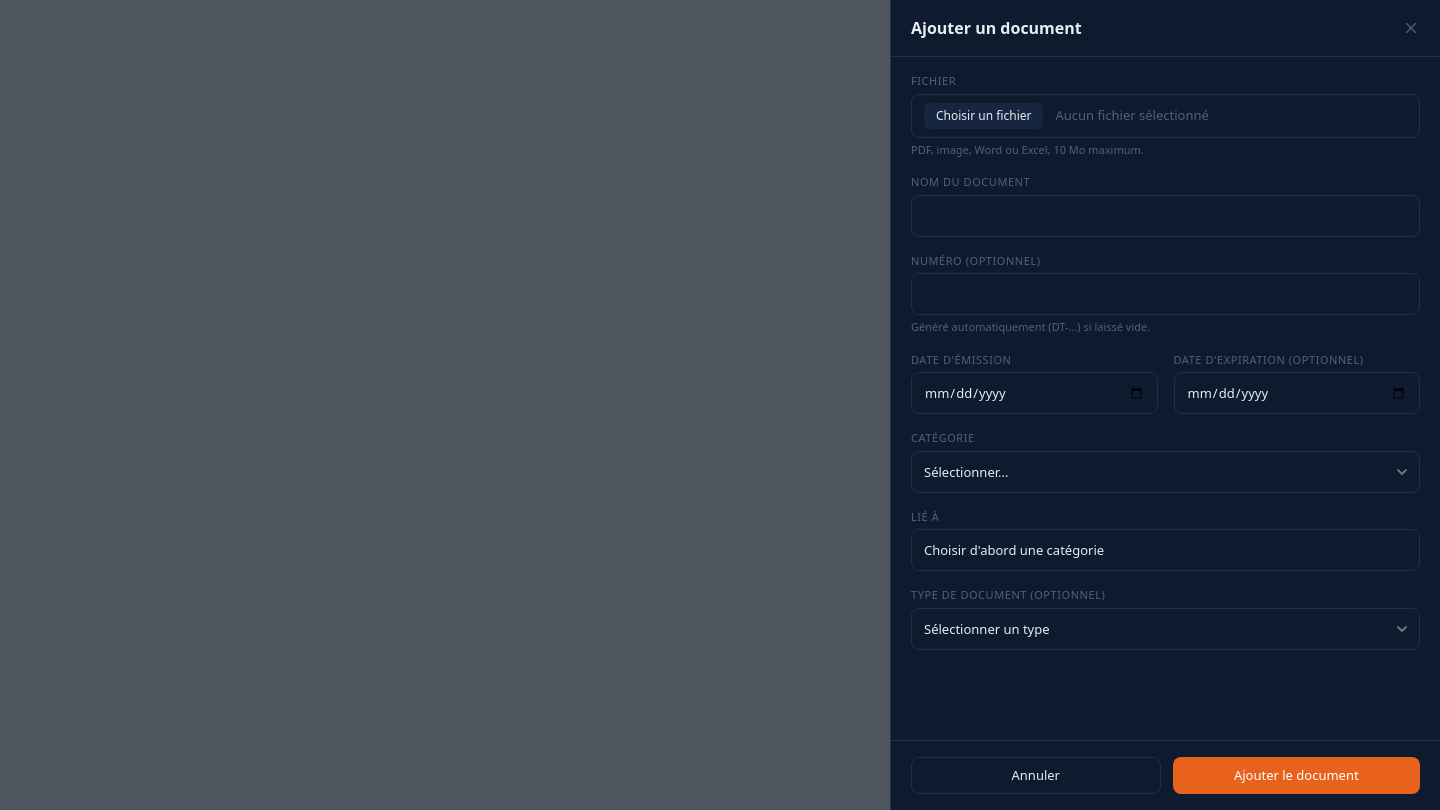
Test: NewDocumentDrawer › when open › shows the fetched trucks in the entity picker once Camion is selected
The width and height of the screenshot is (1440, 810).
Select "Camion" in the dropdown labelled "Catégorie" at (1166, 472), box [911, 450, 1420, 492]
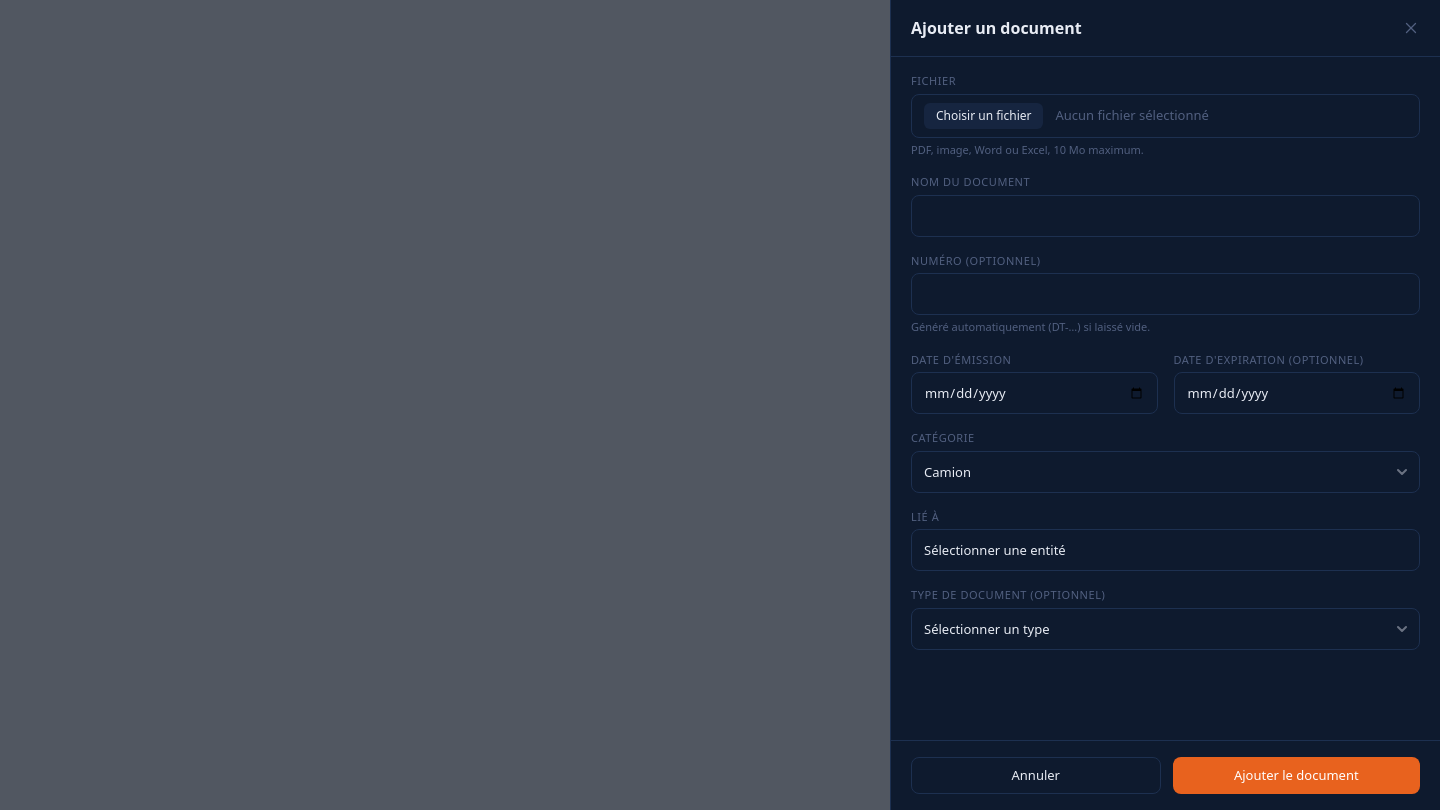
Focus the dropdown labelled "Lié à" at (1166, 550), box [911, 529, 1420, 571]
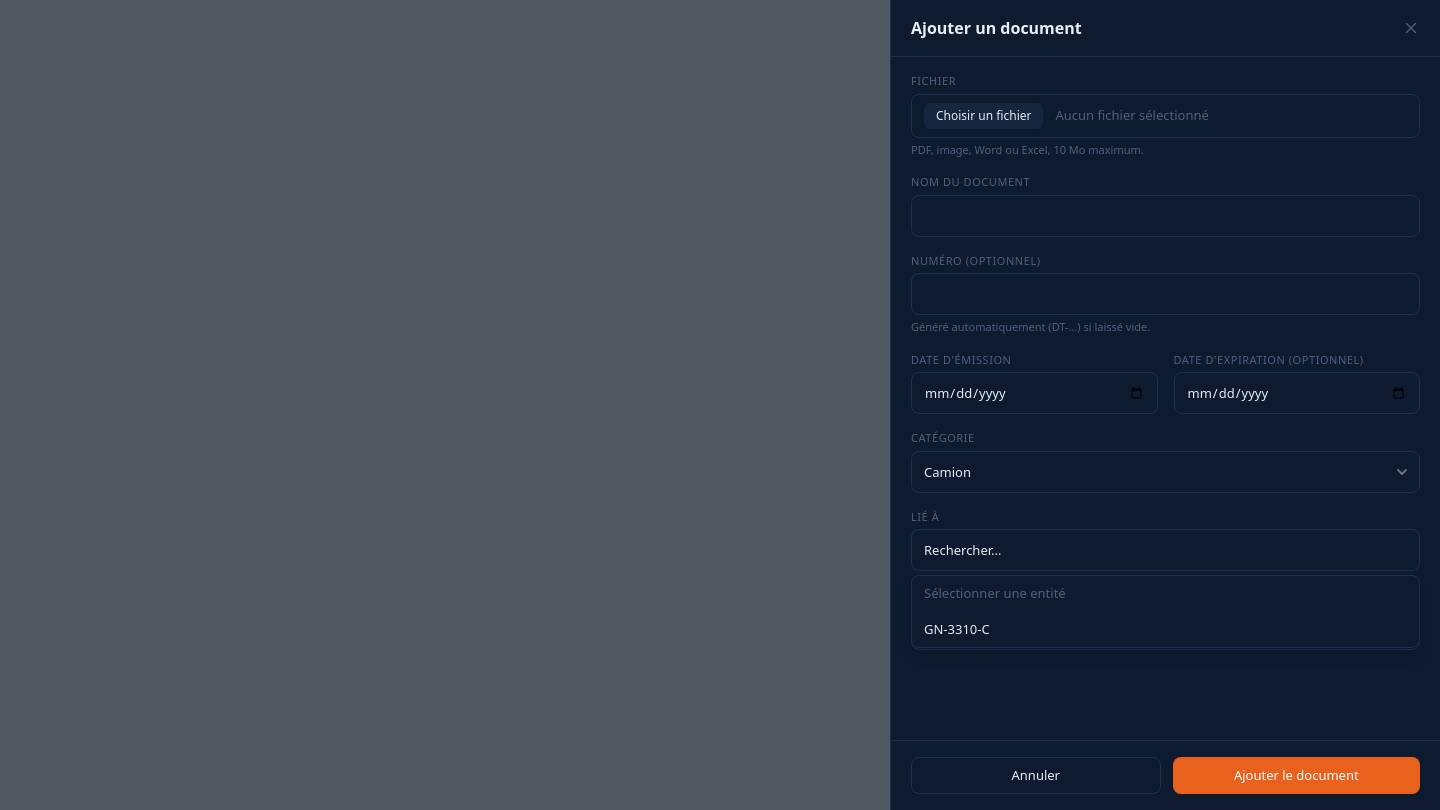
Expected: the button "GN-3310-C" is shown, [912, 612, 1419, 647]
